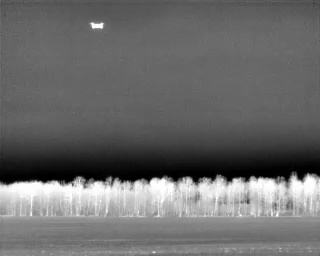DRONE: (86, 18, 108, 34)
